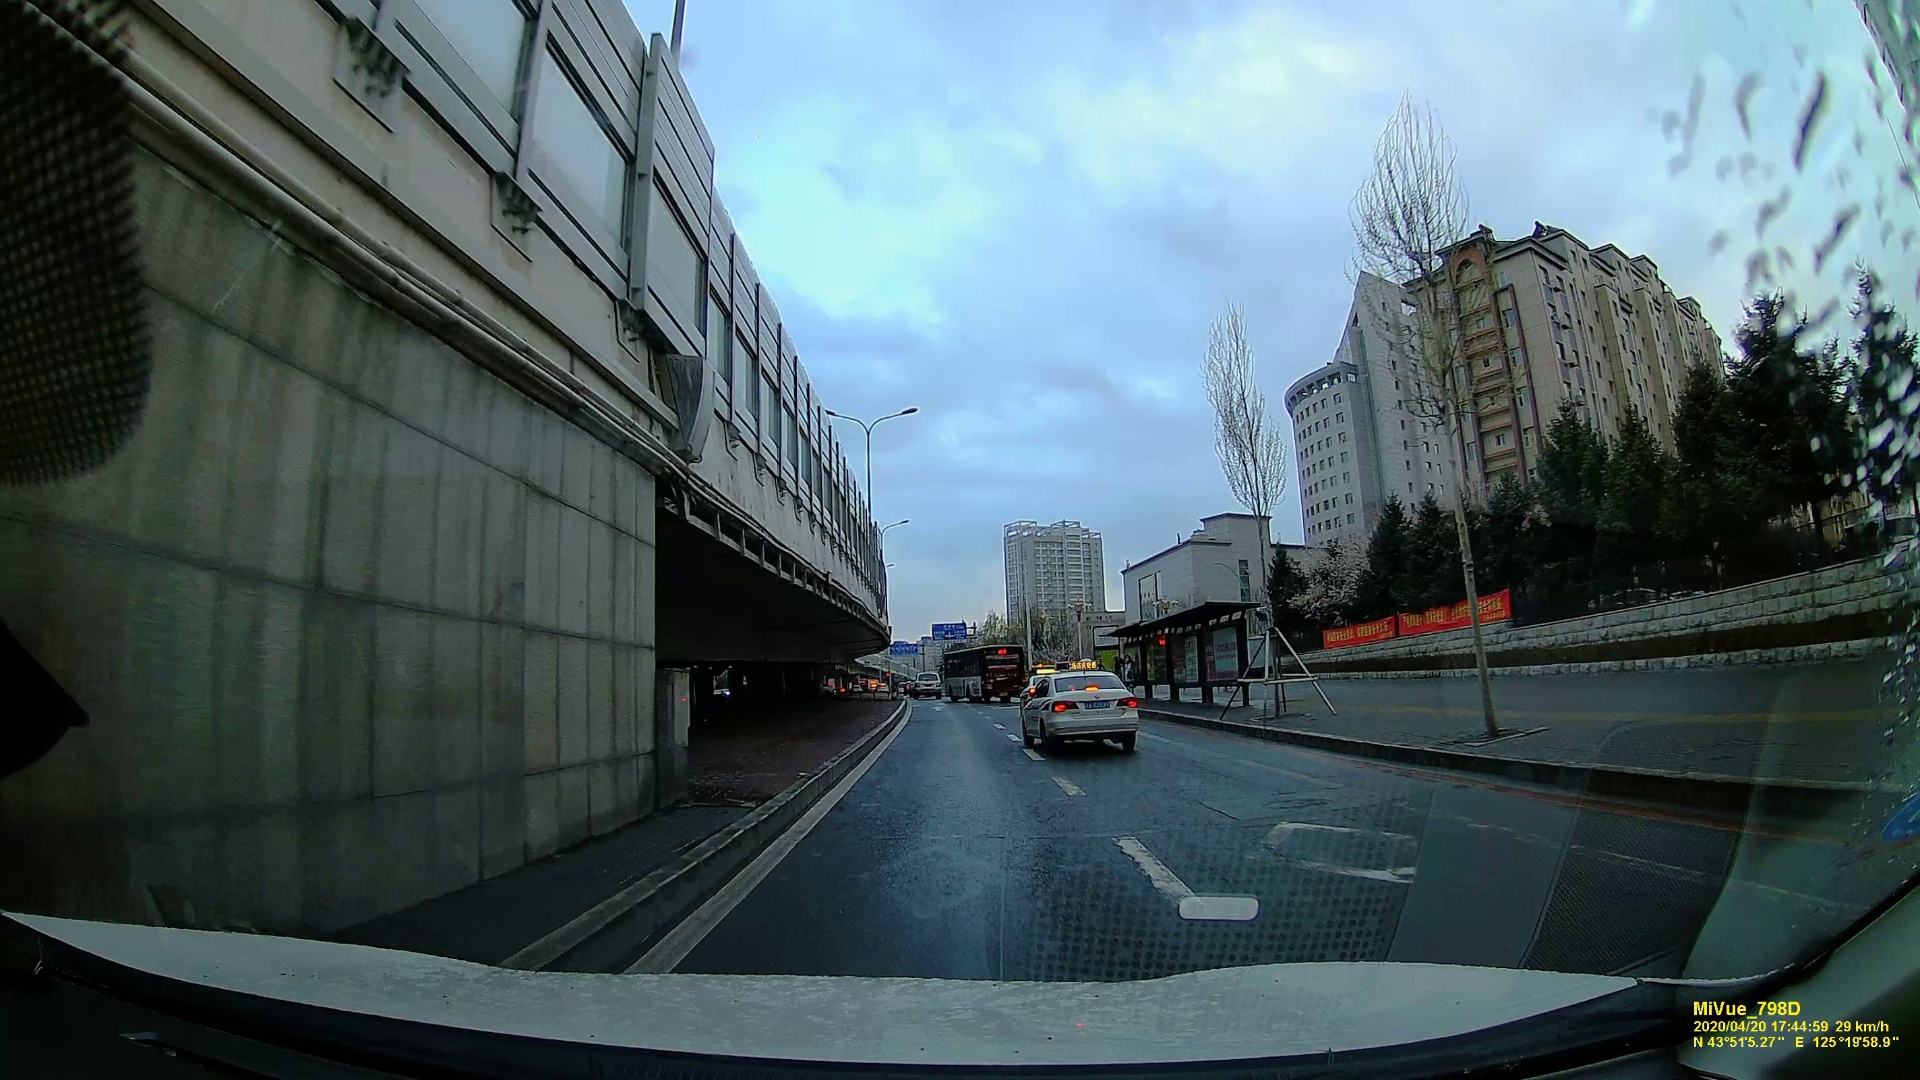bus: (943, 646, 1023, 705)
person: (1123, 653, 1136, 693)
traffic_sign: (932, 623, 966, 638), (892, 643, 917, 656)
vehicle: (1018, 673, 1137, 758), (912, 670, 940, 699)
